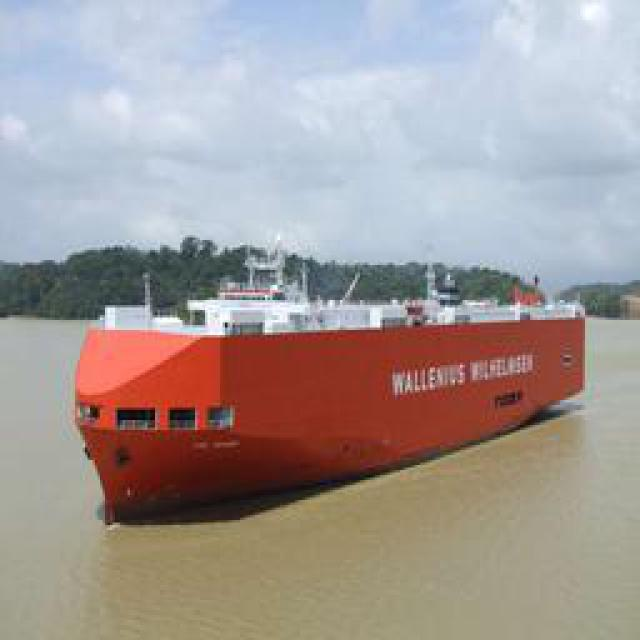Ship: (71, 261, 591, 526)
